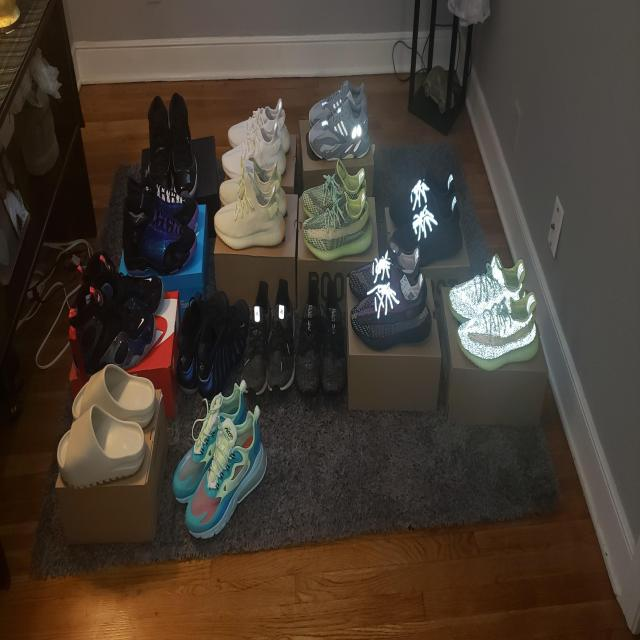shoe: (68, 252, 172, 372), (449, 255, 540, 372), (186, 411, 269, 539), (174, 381, 248, 502), (120, 188, 198, 278), (212, 157, 286, 249), (349, 270, 434, 350), (195, 295, 250, 395), (221, 100, 290, 178), (180, 283, 226, 399), (301, 189, 373, 262), (127, 176, 200, 236), (351, 240, 421, 300), (302, 159, 369, 220), (309, 97, 369, 157), (242, 280, 270, 400), (168, 94, 200, 199), (269, 277, 295, 396), (322, 281, 348, 396), (297, 280, 322, 399), (309, 81, 368, 127), (147, 91, 173, 195)
